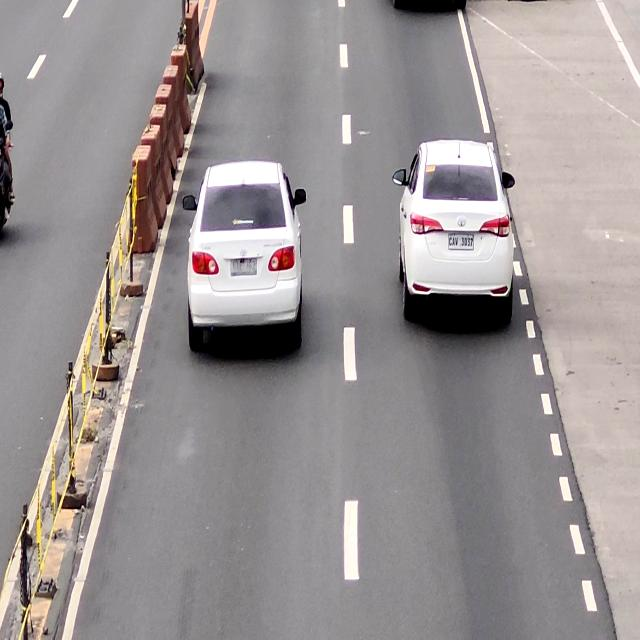Car: (181, 162, 308, 354), (392, 138, 515, 331)
License-Plate: (229, 256, 258, 276), (446, 232, 475, 251)
